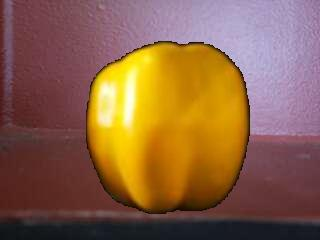Capsicum: (83, 38, 255, 218)
